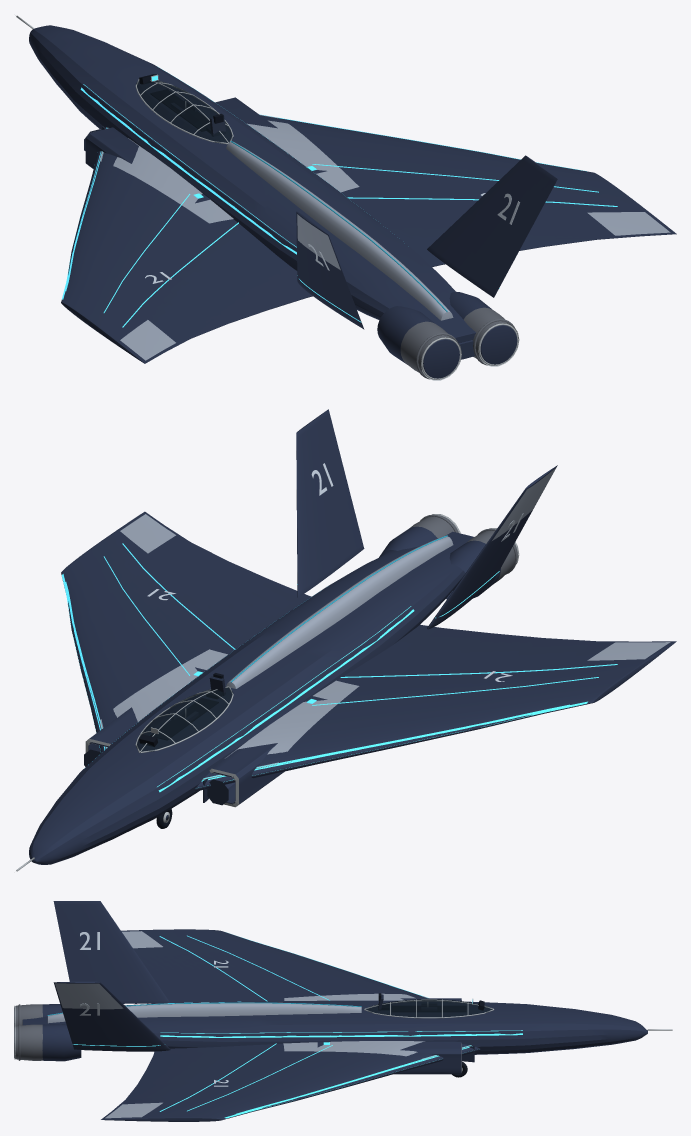
The model's file is showcase.glb.
3 views of the same model, one above another, from view 1: azimuth 30°, elevation 25°; view 2: azimuth 150°, elevation 25°; view 3: azimuth 270°, elevation 25° (orthographic). The views are drawn at different scales.
Parts seen in each view (by area): view 1: showcase_body_Paint_Base, showcase_body_Paint_Secondary, showcase_body_Glow_Emit, showcase_body_Canopy_Glass, showcase_body_Metal_Heat, showcase_body_Metal_Detail, showcase_body_Paint_Dark; view 2: showcase_body_Paint_Base, showcase_body_Paint_Secondary, showcase_body_Glow_Emit, showcase_body_Canopy_Glass, showcase_body_Metal_Detail, showcase_body_Metal_Heat, showcase_body_Paint_Structural, showcase_body_Paint_Dark; view 3: showcase_body_Paint_Base, showcase_body_Paint_Secondary, showcase_body_Glow_Emit, showcase_body_Canopy_Glass, showcase_body_Metal_Heat, showcase_body_Metal_Detail, showcase_body_Paint_Dark, showcase_body_Paint_Marking, showcase_body_Paint_Accent.
Boxes of the visible parts, left/top/right/bottom form: showcase_body_Paint_Base: left=29, top=25, right=676, bottom=378; showcase_body_Paint_Secondary: left=99, top=115, right=670, bottom=360; showcase_body_Glow_Emit: left=62, top=66, right=617, bottom=327; showcase_body_Canopy_Glass: left=136, top=80, right=233, bottom=142; showcase_body_Metal_Heat: left=400, top=307, right=515, bottom=379; showcase_body_Metal_Detail: left=15, top=15, right=519, bottom=380; showcase_body_Paint_Dark: left=139, top=74, right=223, bottom=133; showcase_body_Paint_Base: left=29, top=409, right=676, bottom=864; showcase_body_Paint_Secondary: left=99, top=467, right=670, bottom=779; showcase_body_Glow_Emit: left=61, top=543, right=617, bottom=792; showcase_body_Canopy_Glass: left=136, top=687, right=232, bottom=751; showcase_body_Metal_Detail: left=16, top=514, right=519, bottom=871; showcase_body_Metal_Heat: left=409, top=514, right=517, bottom=583; showcase_body_Paint_Structural: left=84, top=676, right=228, bottom=805; showcase_body_Paint_Dark: left=139, top=673, right=223, bottom=746; showcase_body_Paint_Base: left=14, top=901, right=647, bottom=1121; showcase_body_Paint_Secondary: left=47, top=931, right=471, bottom=1118; showcase_body_Glow_Emit: left=73, top=935, right=522, bottom=1118; showcase_body_Canopy_Glass: left=365, top=999, right=492, bottom=1017; showcase_body_Metal_Heat: left=15, top=1004, right=42, bottom=1060; showcase_body_Metal_Detail: left=14, top=998, right=672, bottom=1072; showcase_body_Paint_Dark: left=378, top=993, right=484, bottom=1011; showcase_body_Paint_Marking: left=80, top=932, right=228, bottom=1086; showcase_body_Paint_Accent: left=47, top=1002, right=361, bottom=1015.
Bounding box in the file's own units: 15.2 × 5.29 × 22.59.
